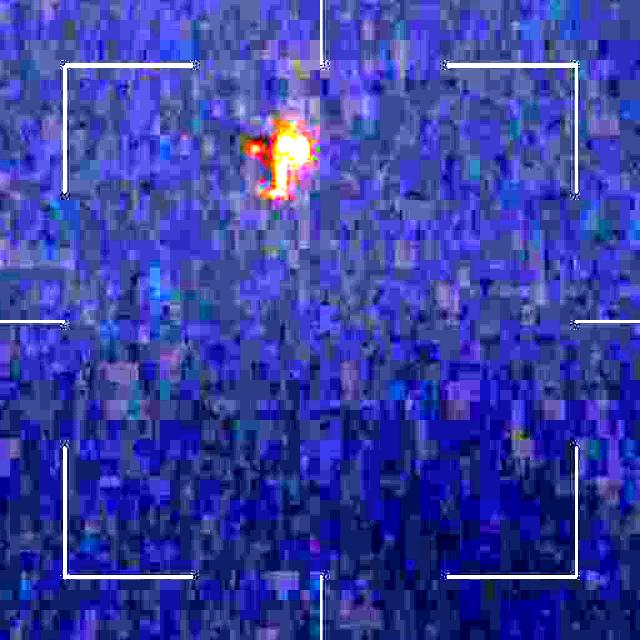bird: (239, 122, 316, 196)
